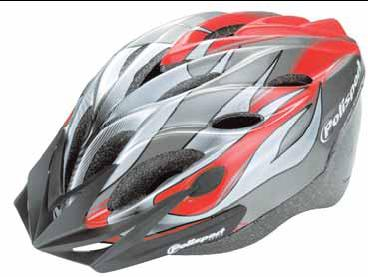helmet: (59, 22, 355, 247)
